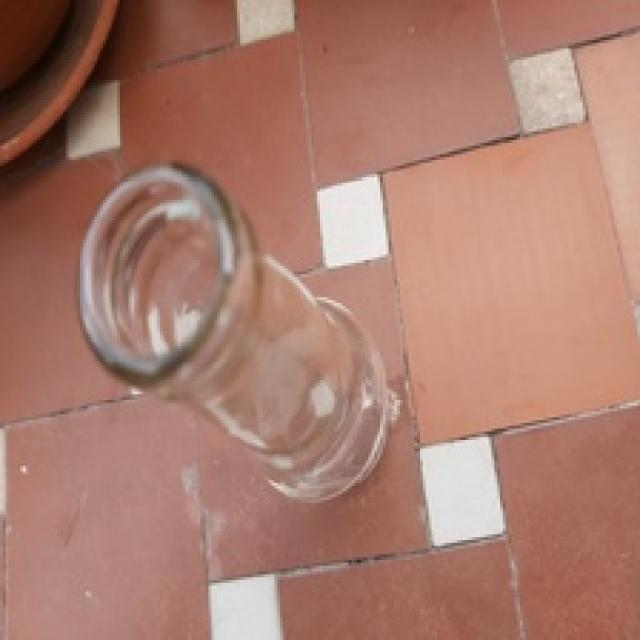Glass: (75, 160, 386, 506)
